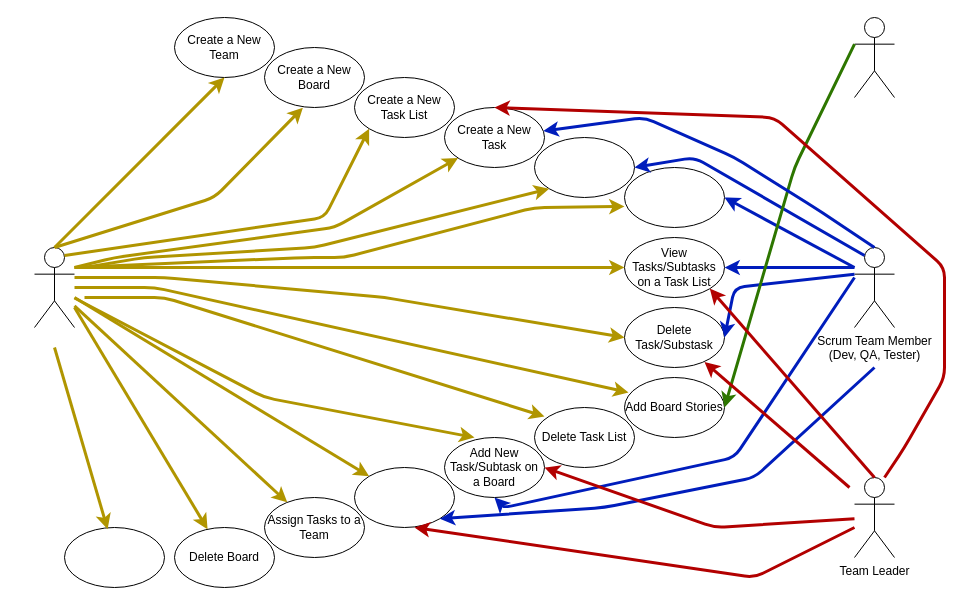
This 971x605 diagram has some shape labels left out. The centre of each missing label's shape, as x and y in pixels:
"Clients and Business Stakeholders (not a relevant actor)" belongs at point (874, 57).
"Scrum Master" belongs at point (54, 287).
"Set User Role" belongs at point (114, 557).
"Update Task Status" belongs at point (404, 497).
"View Personal Boards" belongs at point (584, 167).
"View Task Status" belongs at point (674, 197).
